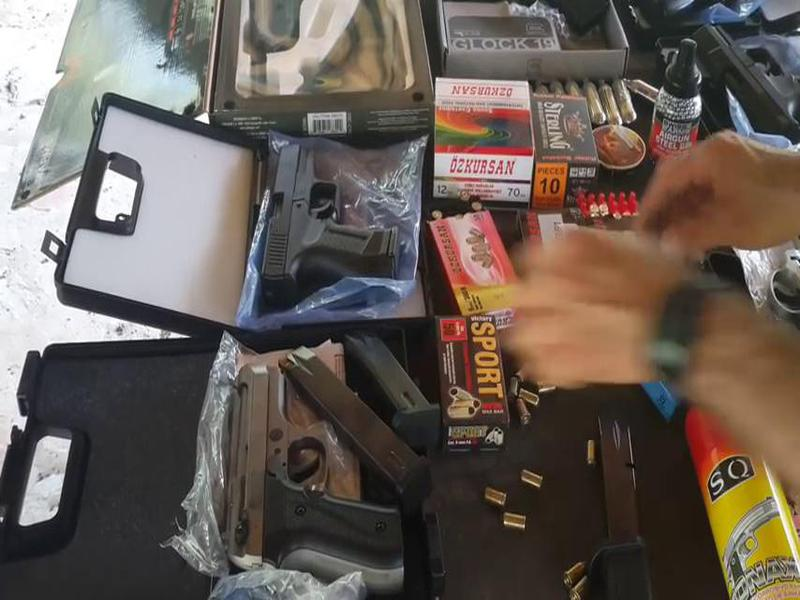Pistola: (193, 343, 406, 570), (267, 132, 403, 302)
